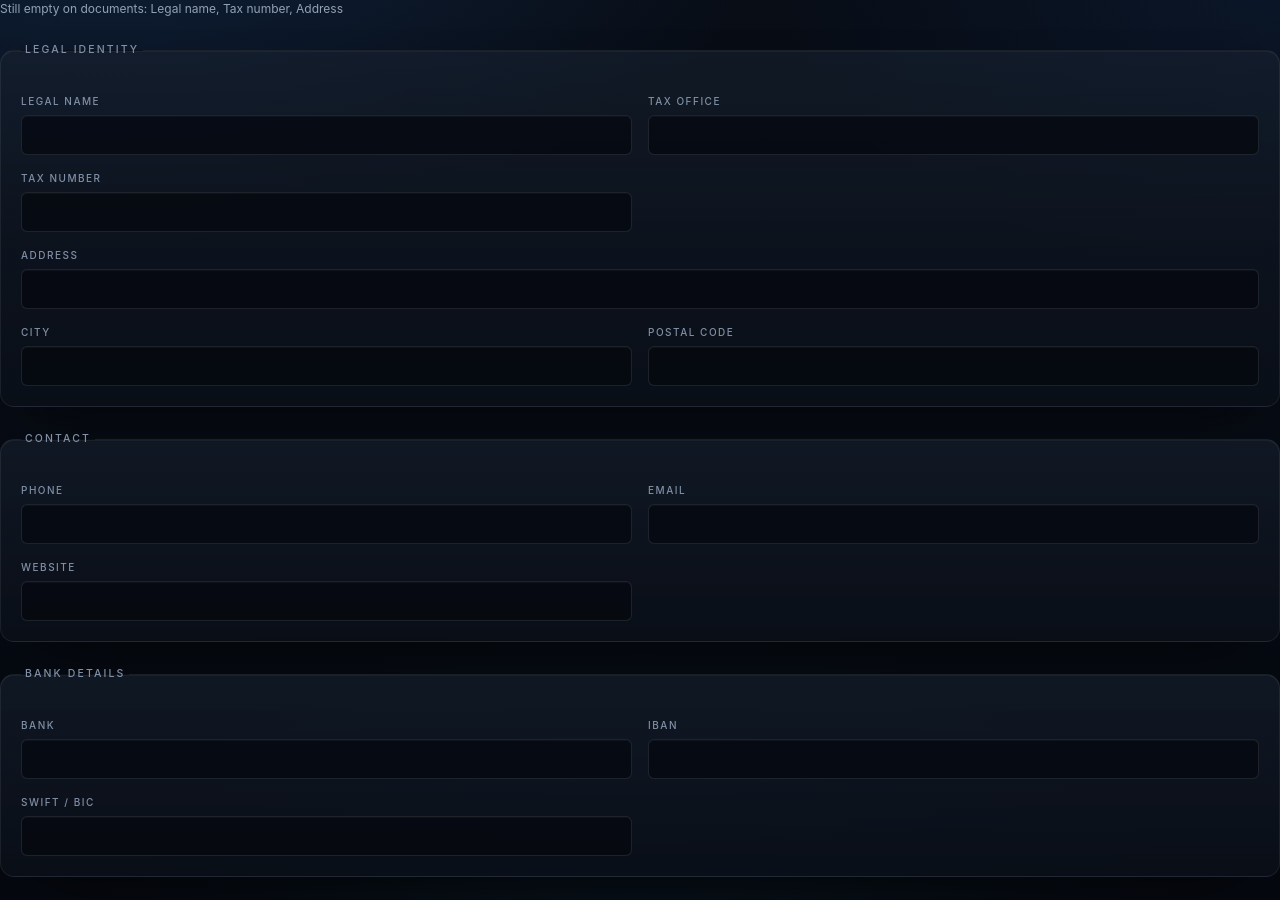
Scenario: company profile form › marks the fields the server rejected
Type "GB00" into the field labelled "IBAN" at point(954, 759), box [648,739,1259,779]
(page scrolled)
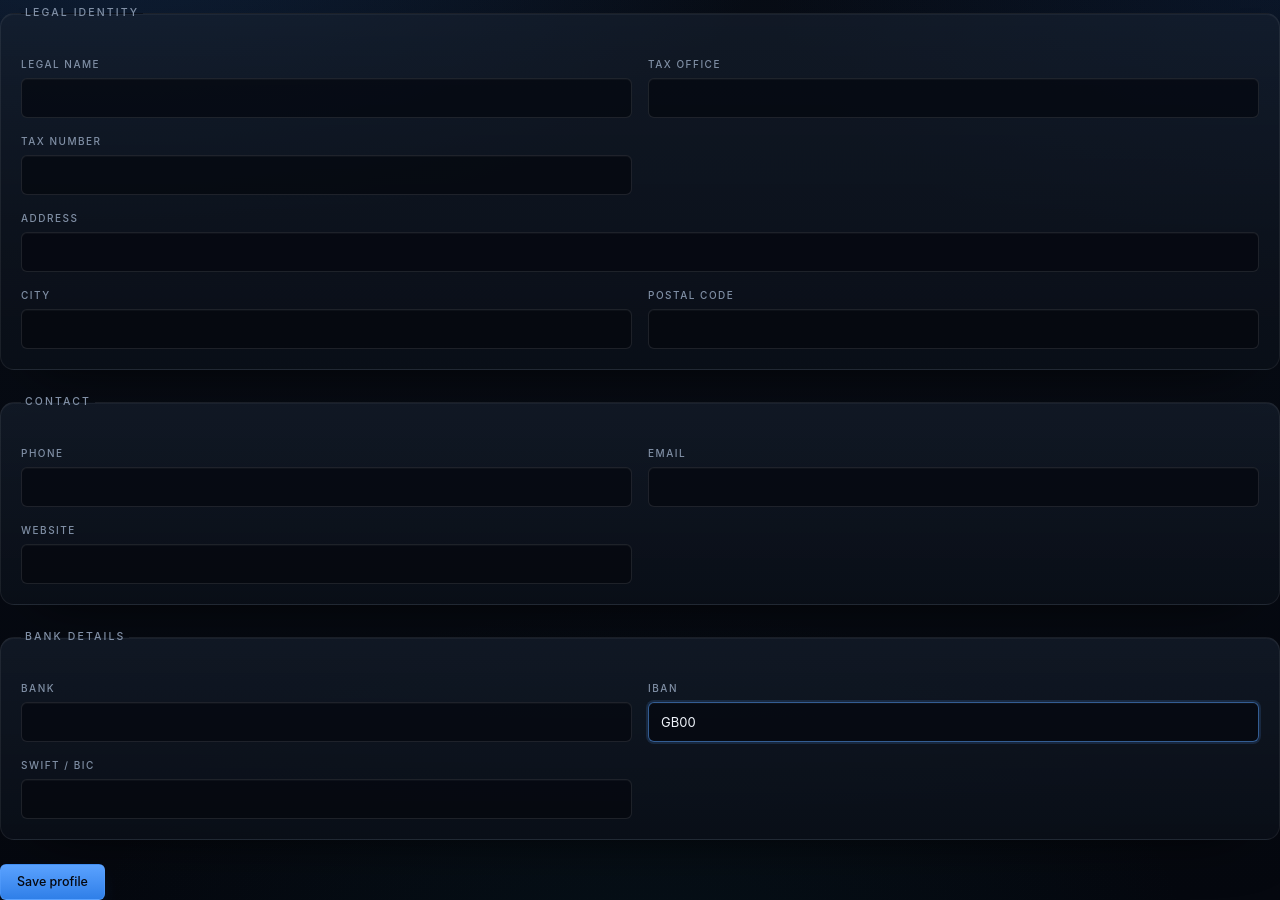
Click the button "Save profile" at point(52, 882), box [0,864,105,899]
(page scrolled)
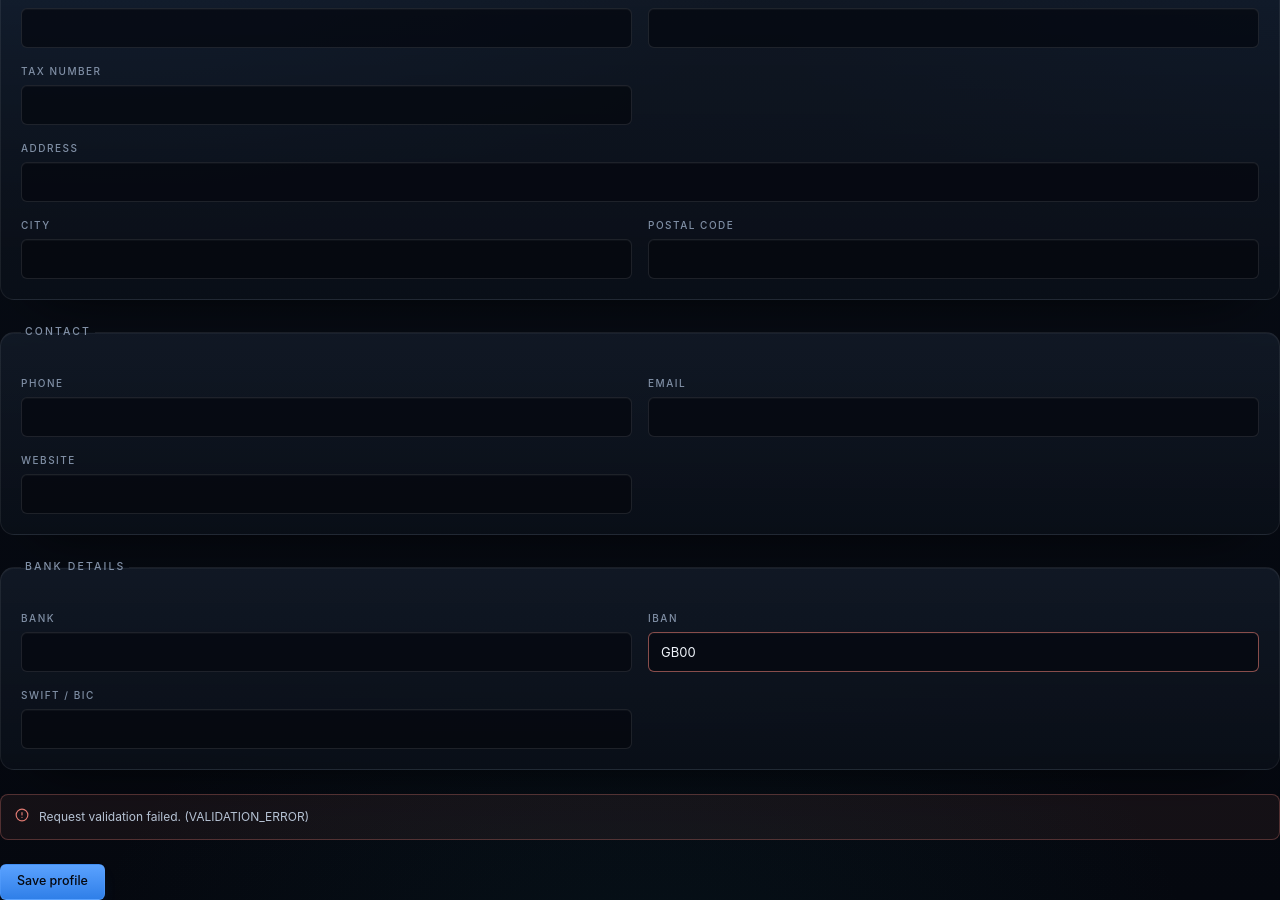
Check: the message reads "Request validation failed. (VALIDATION_ERROR)", box [39,809,309,824]
